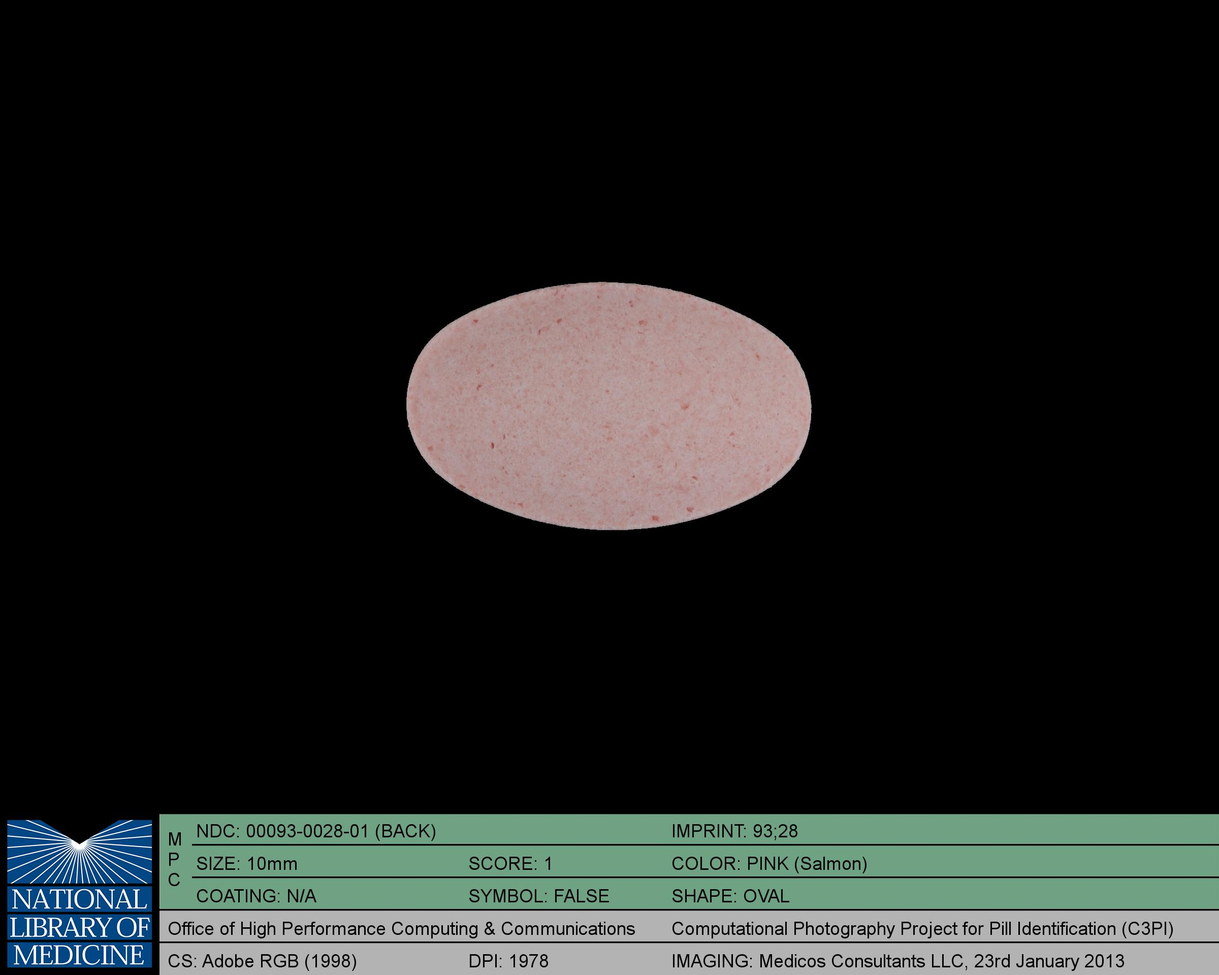Pill: (396, 267, 825, 540)
